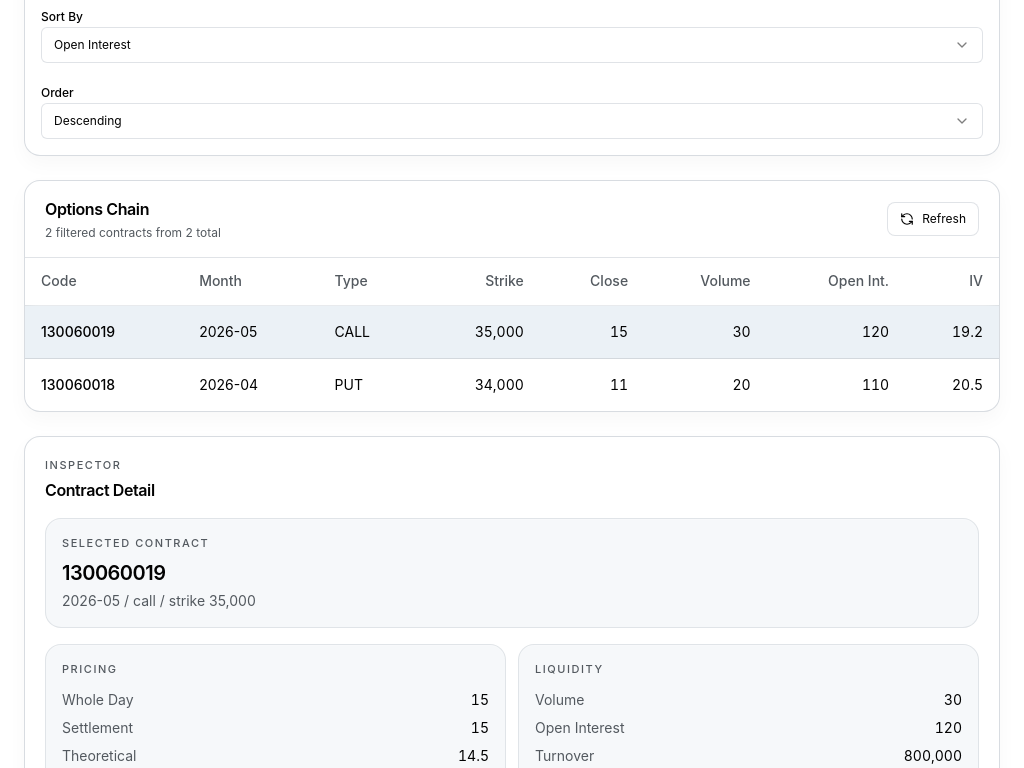
N225OptionsPage › updates the detail panel when a different row is selected
The image size is (1024, 768).
(page scrolled)
Click the row "130060018 2026-04 put 34,000 11 20 110 20.5" at coordinates (512, 385), box [25,358,999,411]
(page scrolled)
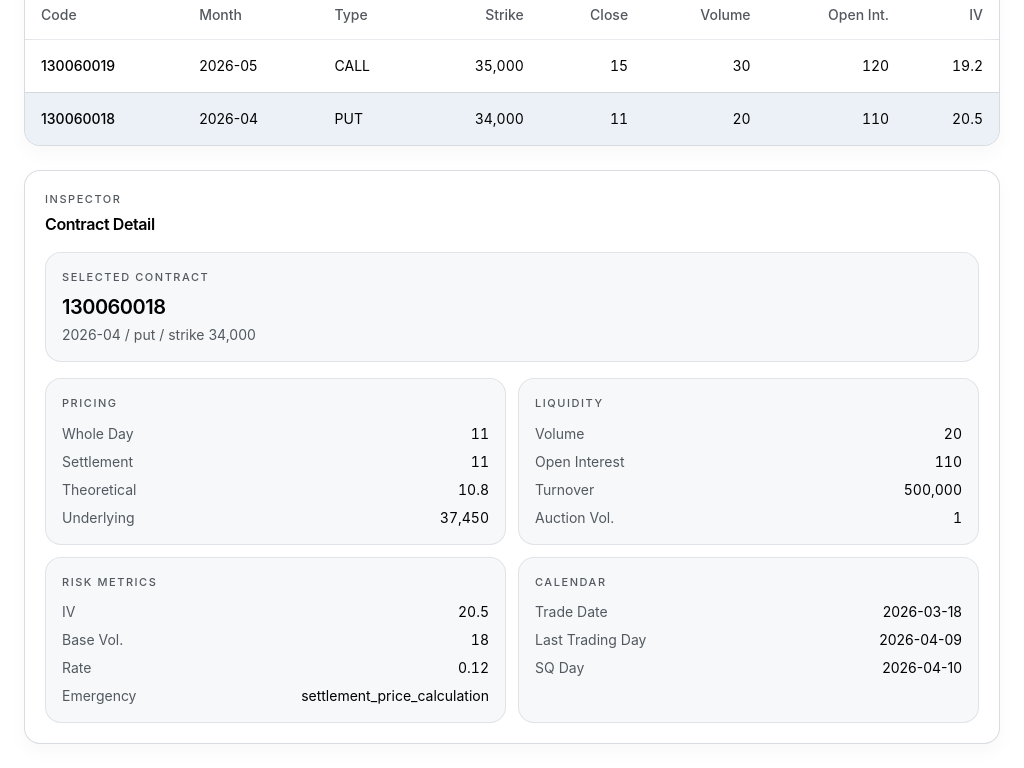
Expected: the text "2026-04 / put / strike 34,000" is shown, [62,326,256,343]
Expected: the text "2026-04-09" is shown, [879,631,962,648]
